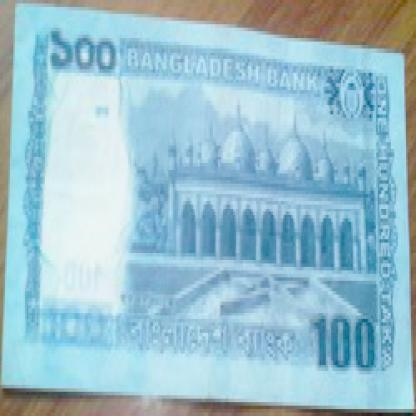one hundred taka: (308, 295, 381, 381), (45, 17, 120, 94)
